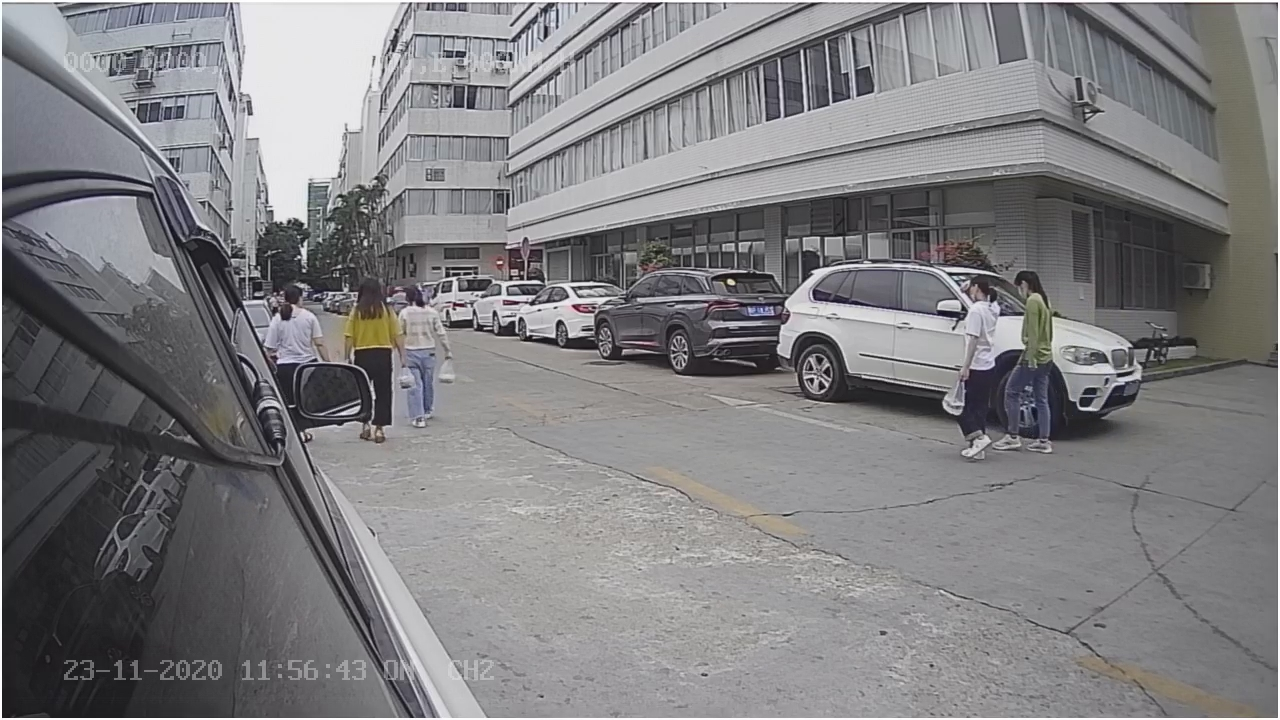person: (994, 270, 1059, 460), (941, 273, 1000, 470), (394, 284, 460, 430), (347, 270, 402, 441), (264, 276, 333, 362)
